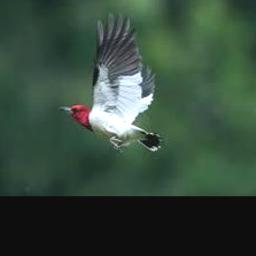Woodpecker: (60, 12, 166, 152)
